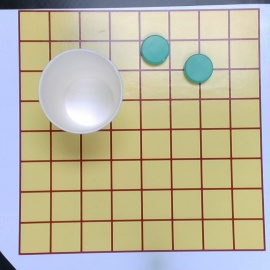cup: (38, 49, 124, 135)
green: (183, 54, 214, 83), (140, 35, 169, 65)
